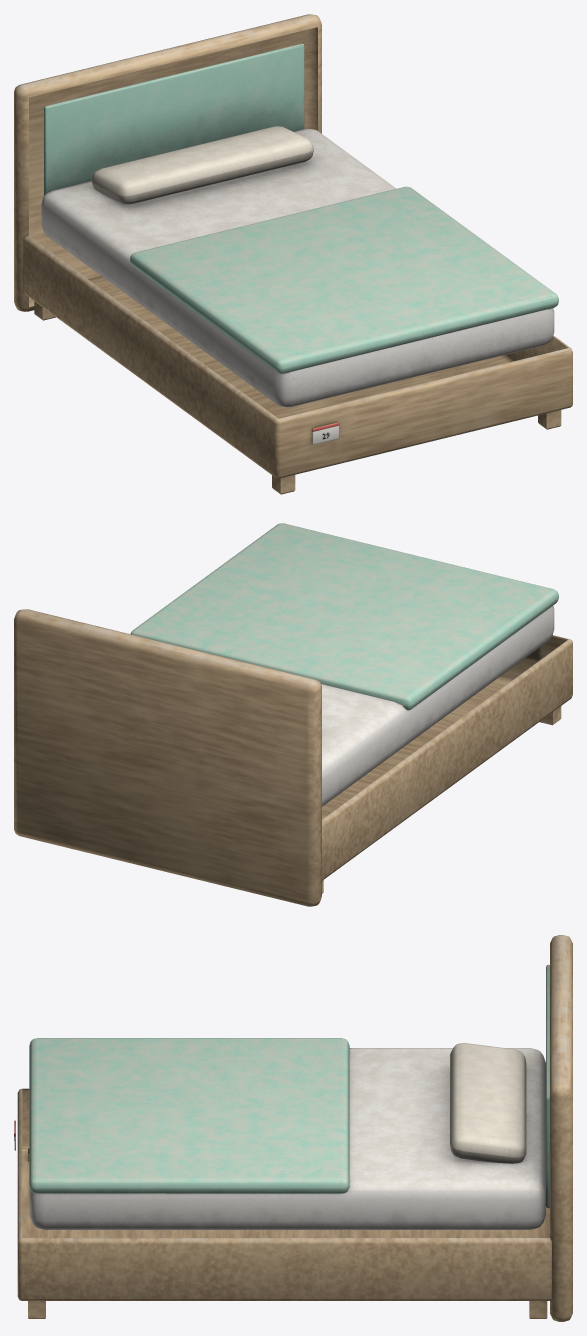
Rendered from bed.fbx.
3 views of the same model, one above another, from view 1: azimuth 30°, elevation 25°; view 2: azimuth 150°, elevation 25°; view 3: azimuth 270°, elevation 25° (orthographic). The views are drawn at different scales.
Parts seen in each view (by area): view 1: Body; view 2: Body; view 3: Body.
Boxes of the visible parts, x1,y1,x2,y2 form: Body: (14, 14, 572, 494); Body: (14, 523, 572, 906); Body: (14, 935, 572, 1321).
Size of the model in its own units: 4.8 by 3.4 by 7.25.
Materials: 1 (1 with a texture image).
